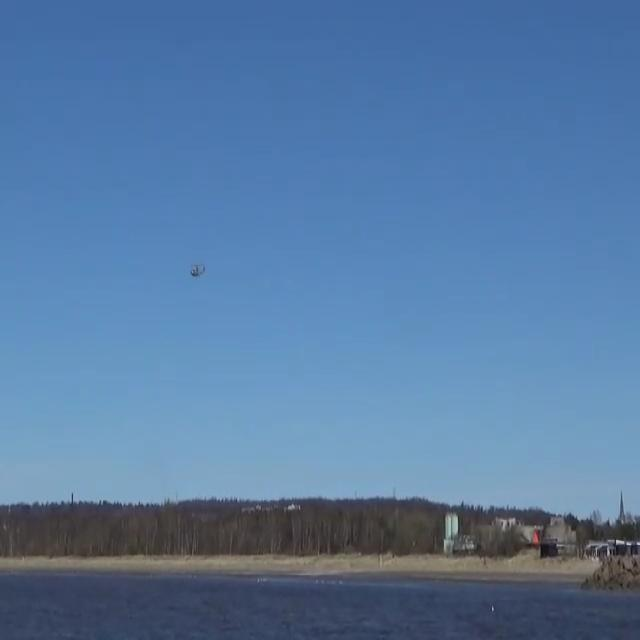Helicopter: (176, 250, 216, 289)
